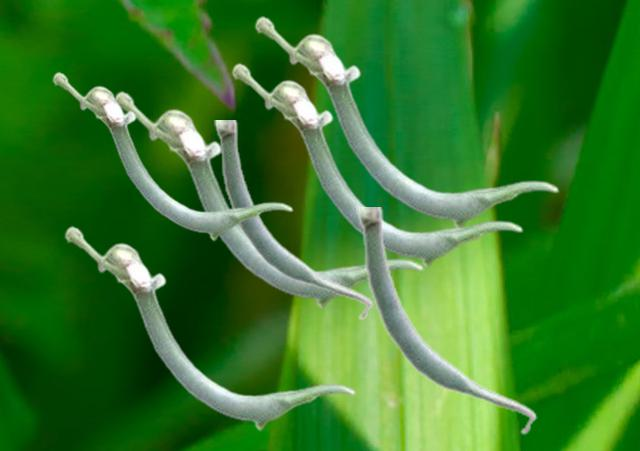french_bean: (115, 90, 423, 308), (254, 15, 558, 226), (231, 62, 522, 267), (64, 225, 355, 430), (356, 207, 536, 435), (52, 71, 292, 240), (214, 120, 372, 320)
